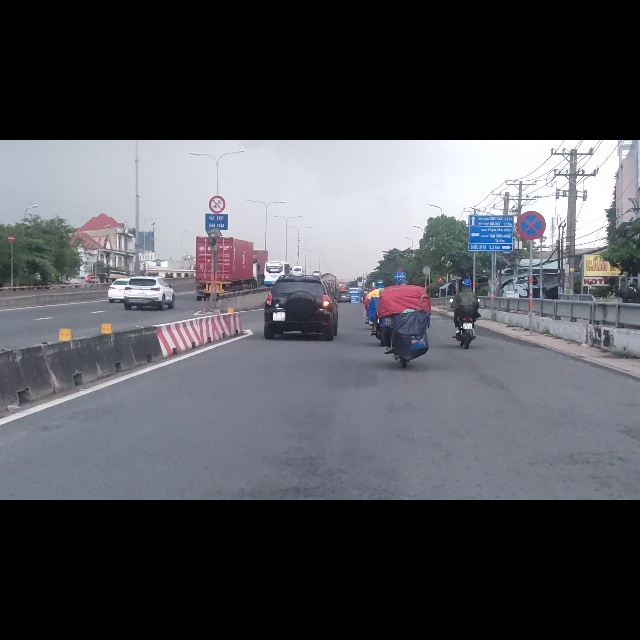bien_chi_dan: (516, 125, 546, 178), (209, 100, 226, 130), (8, 167, 15, 183)
